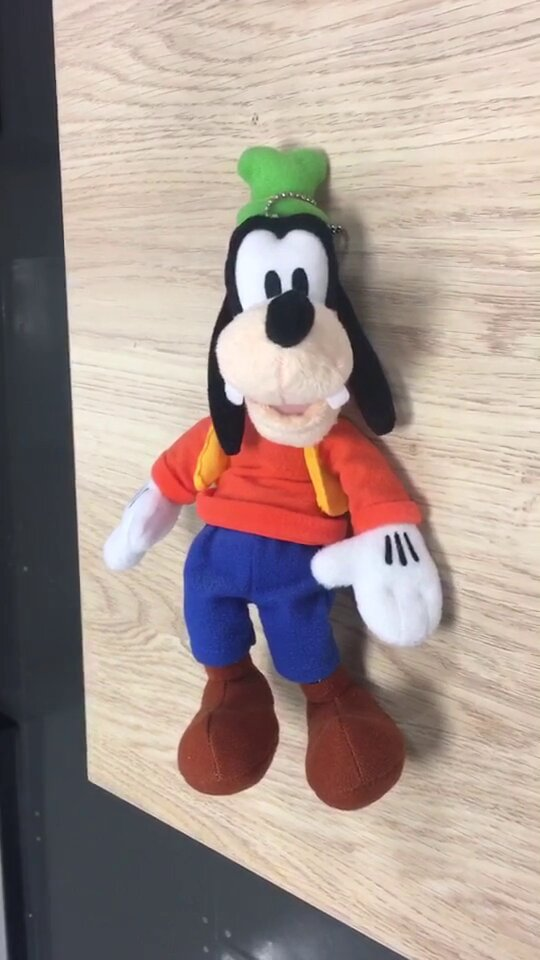goofy: (97, 142, 447, 813)
